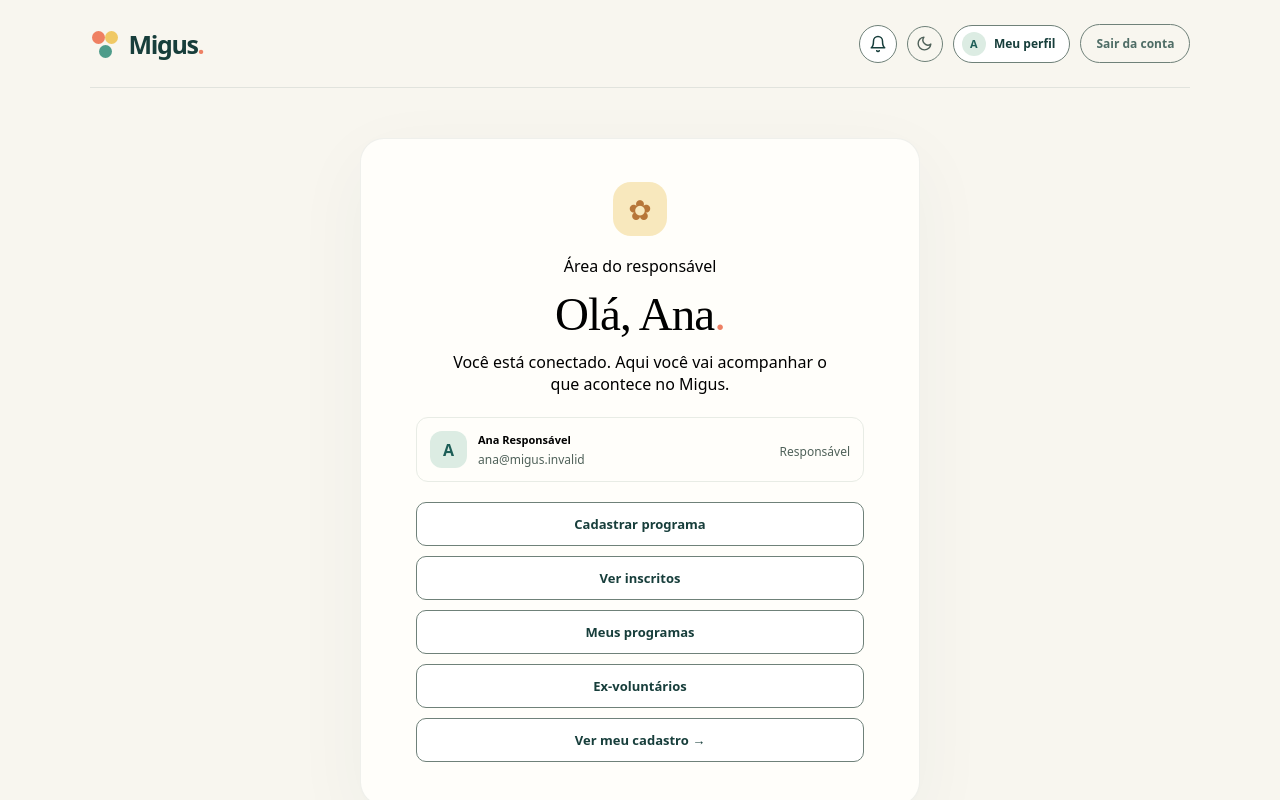
Test case: responsável acessa ex-voluntários pela tela inicial
The image size is (1280, 800).
Click the button "Ex-voluntários".
click(640, 686)  # box [416,664,864,708]
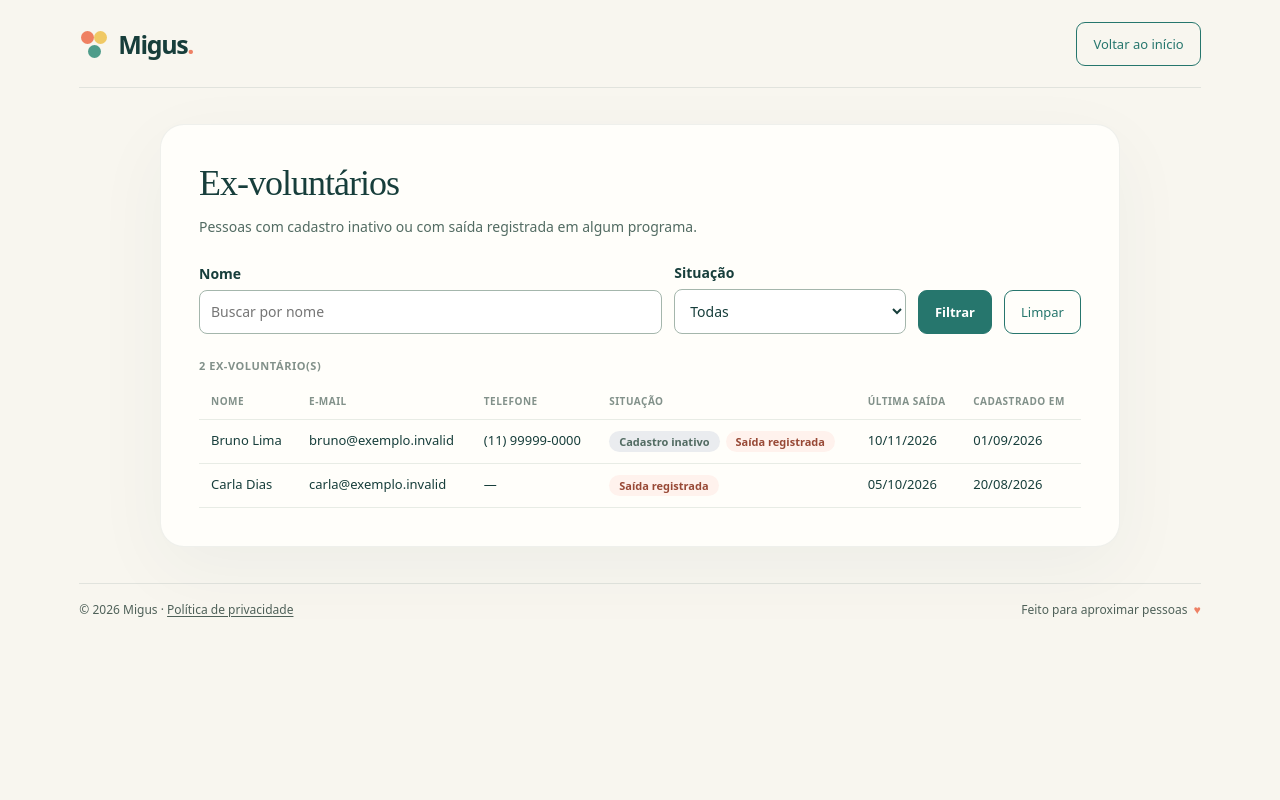
Now the heading "Ex-voluntários" is shown, box [199,163,399,203]
Now the row "Bruno Lima" is shown, box [199,419,1081,463]
